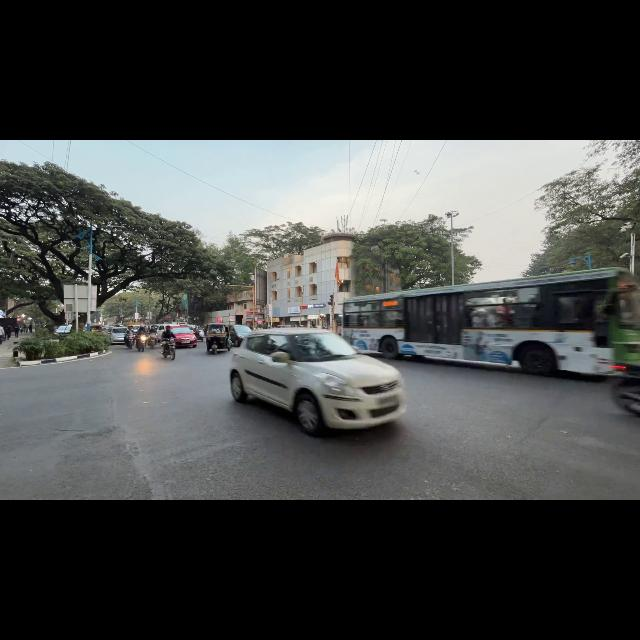bus: (342, 268, 640, 374)
car: (231, 328, 405, 435), (171, 326, 197, 347), (152, 324, 181, 341), (230, 325, 251, 346), (107, 327, 127, 344), (54, 325, 72, 337)
motorcycle: (612, 376, 639, 416), (162, 339, 175, 360), (135, 334, 147, 351), (125, 333, 135, 349), (194, 329, 205, 341), (148, 333, 155, 348)
